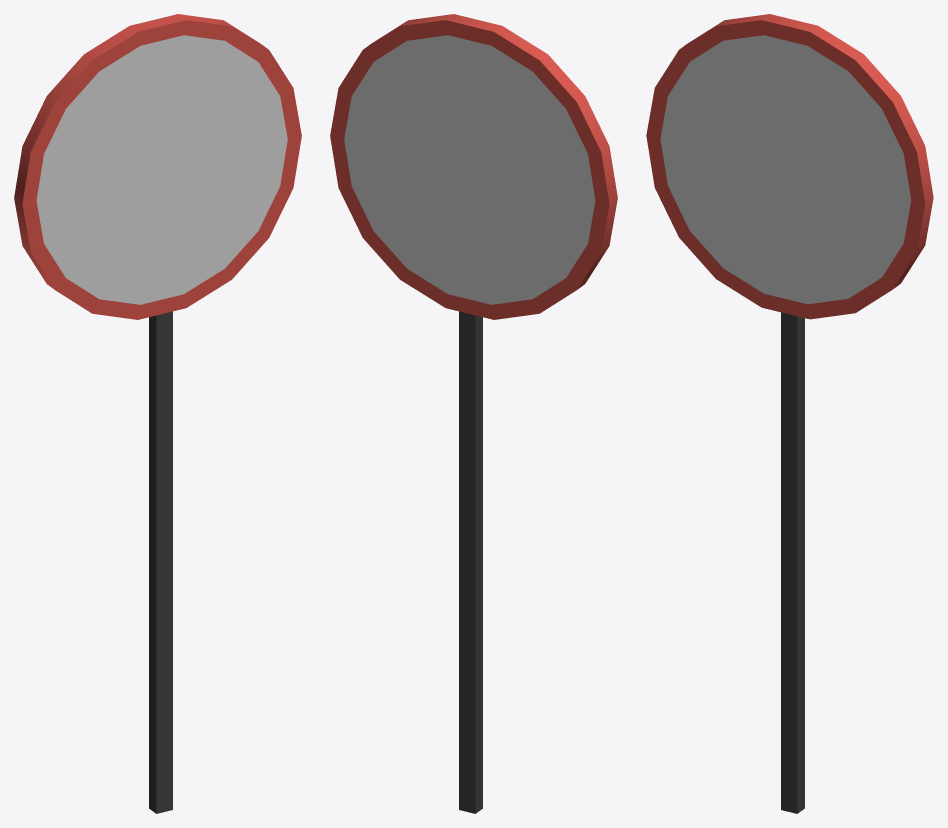
Rendered from SIGN-CIRCLE.glb.
The picture shows the model from 3 angles, left to right: view 1: azimuth 30°, elevation 25°; view 2: azimuth 150°, elevation 25°; view 3: azimuth 330°, elevation 25°; orthographic projection.
Visible parts, largest first — view 1: SIGN-CIRCLE; view 2: SIGN-CIRCLE; view 3: SIGN-CIRCLE.
Boxes of the visible parts, box(x1,y1,x2,y2) form: SIGN-CIRCLE: box(14, 14, 301, 813); SIGN-CIRCLE: box(330, 14, 617, 813); SIGN-CIRCLE: box(646, 14, 933, 813).
Size of the model in its own units: 1.2 by 3.23 by 0.0619.
